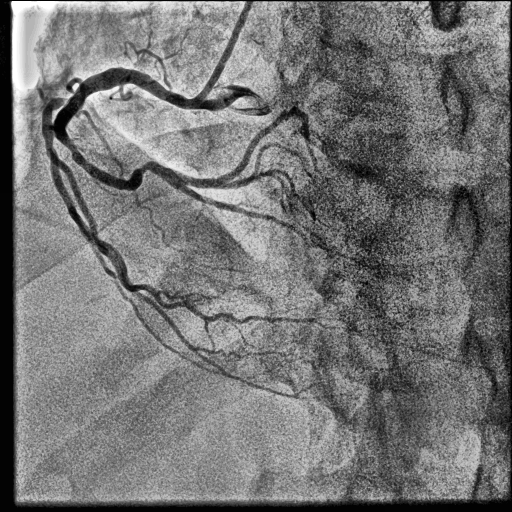pborca: (188, 109, 320, 188)
pda: (182, 186, 359, 262)
rca: (54, 68, 202, 191)
